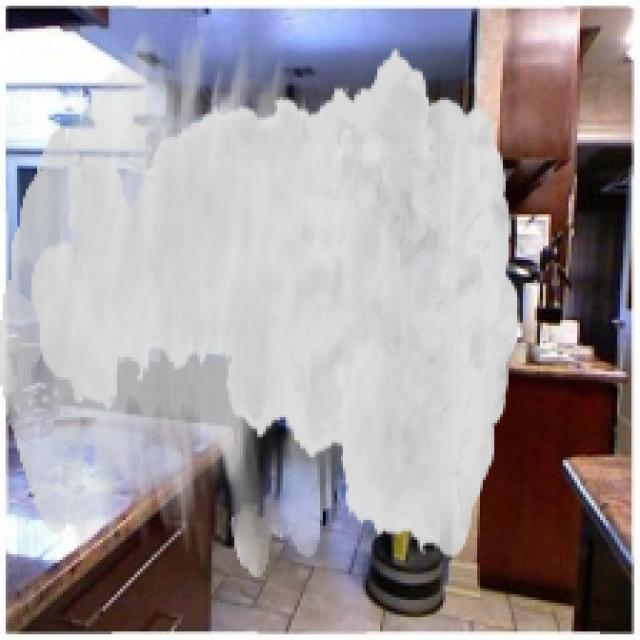Smoke: (0, 25, 520, 578)
